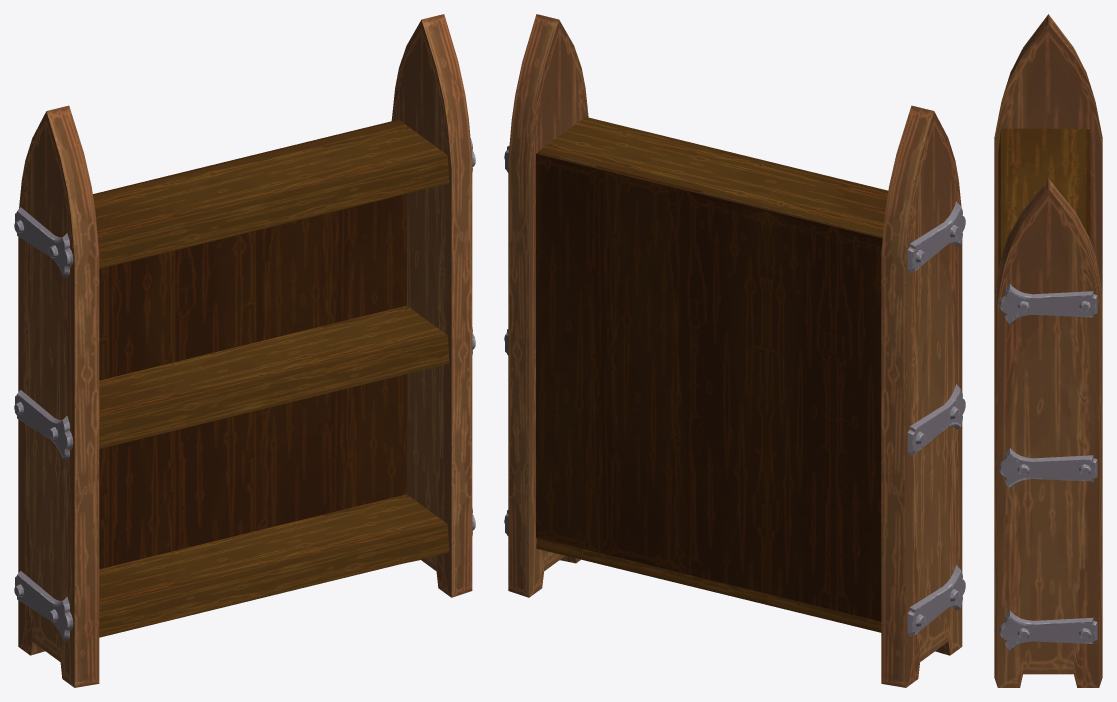
File: Shelf_Arch.gltf
3 views of the same model, side by side, from view 1: azimuth 30°, elevation 25°; view 2: azimuth 150°, elevation 25°; view 3: azimuth 270°, elevation 25° (orthographic). The views are drawn at different scales.
Visible parts, largest first — view 1: Shelf_Arch; view 2: Shelf_Arch; view 3: Shelf_Arch.
Boxes of the visible parts, bbox=[...] form: Shelf_Arch: bbox=[14, 14, 475, 687]; Shelf_Arch: bbox=[504, 14, 965, 687]; Shelf_Arch: bbox=[994, 14, 1102, 687].
Size of the model in its own units: 1.25 by 1.59 by 0.3116.
2 materials, 2 textured.
